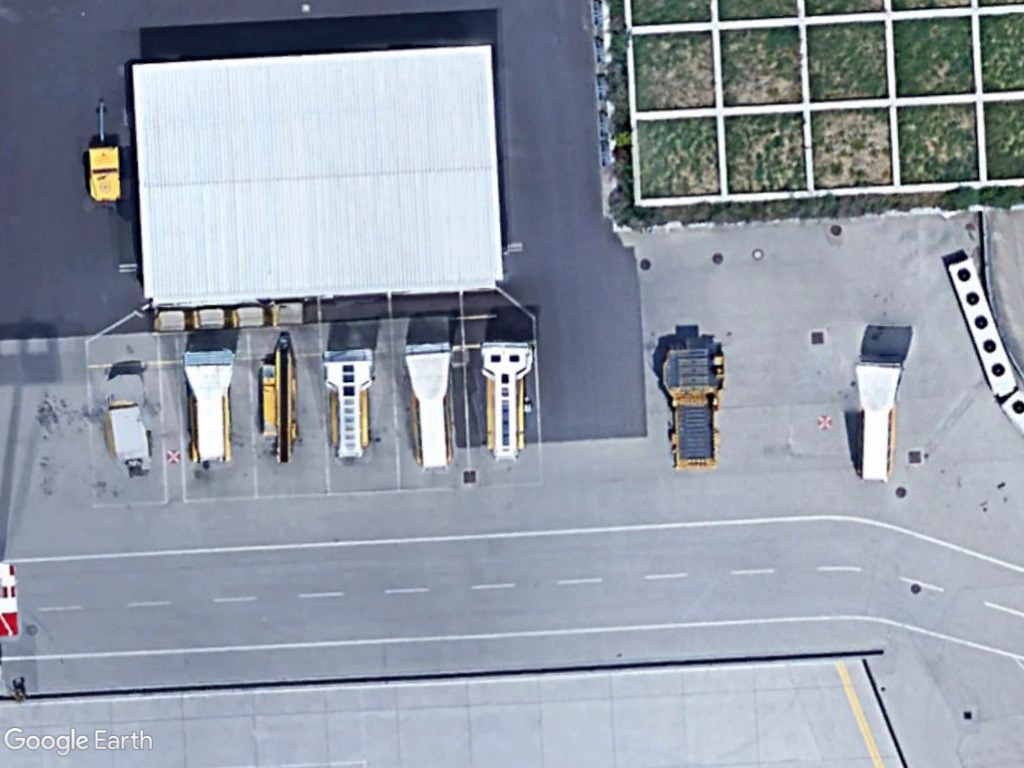stairtruck: (474, 336, 540, 464), (395, 341, 458, 474), (849, 352, 910, 488), (177, 351, 242, 474), (319, 346, 380, 468)
